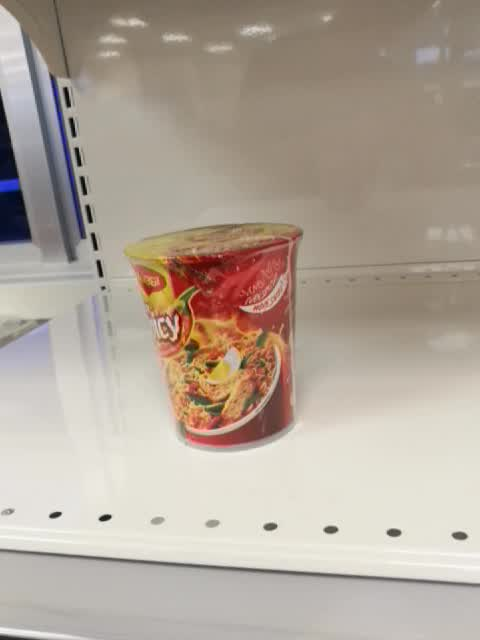maggi: (124, 221, 304, 453)
